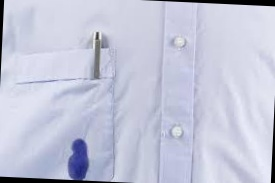ink: (69, 139, 90, 181)
